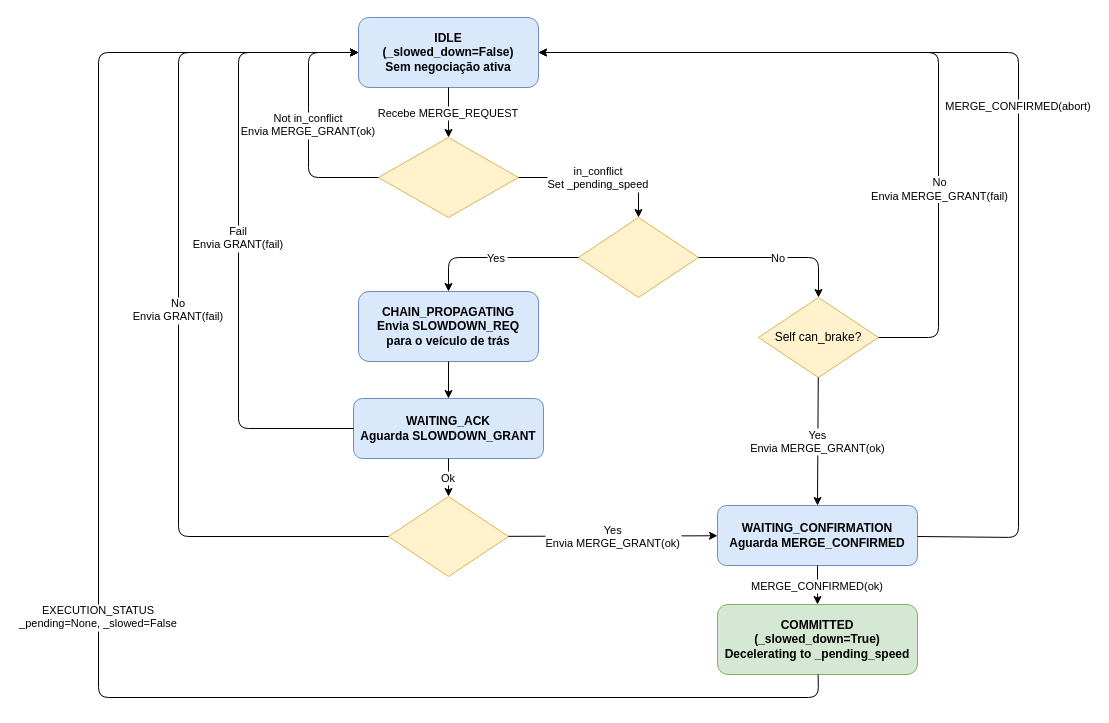
The diagram is 1109 pixels wide and 723 high, and some of its shapes have lost their labels. Here are the shapes that lost their labels. From the top down, the box of each, then its label:
(378, 136, 518, 218): EVALUATING in_conflict?
(578, 216, 698, 298): Has vehicle behind?
(388, 496, 508, 576): Own braking ok?
